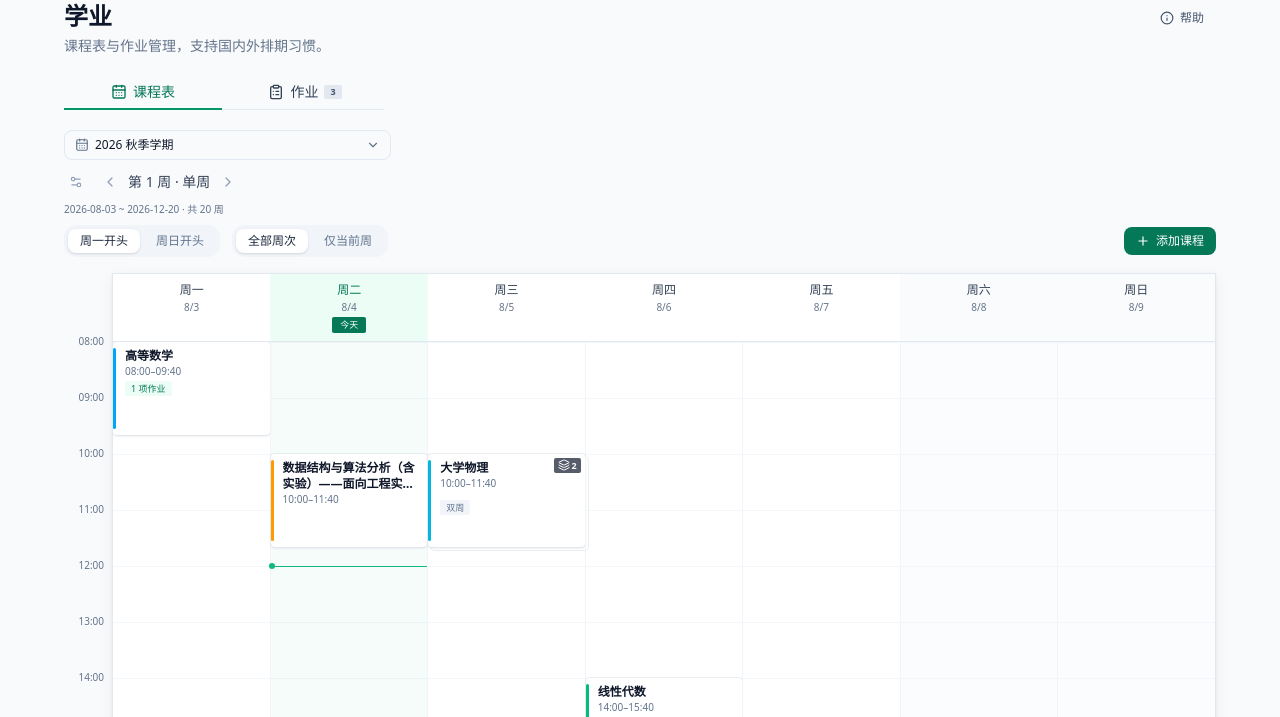
Scenario: StudyPage › 作业页签显示待办数量并在完成后更新
expect the text "3" is shown: met, box [324,85,342,99]
Click the button "作业 3": (305, 93) [226,76,384,110]
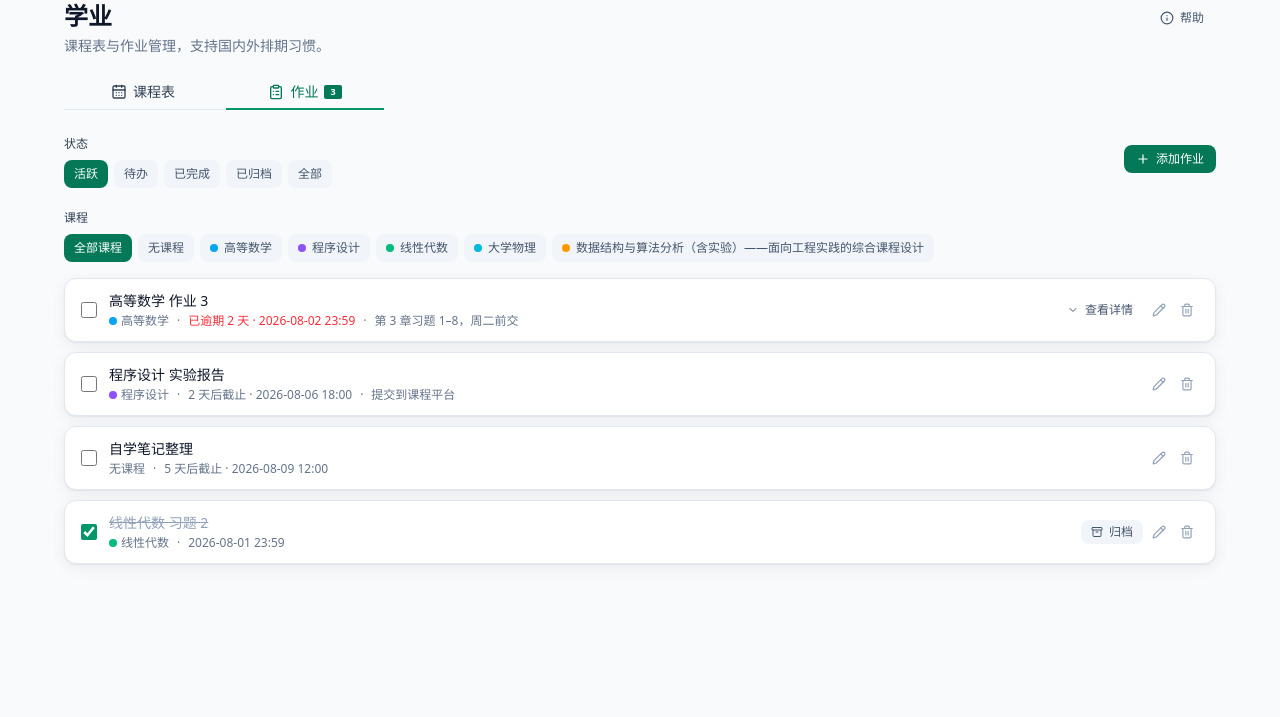
Click the checkbox named "程序设计 实验报告": (89, 384) [81,376,97,392]
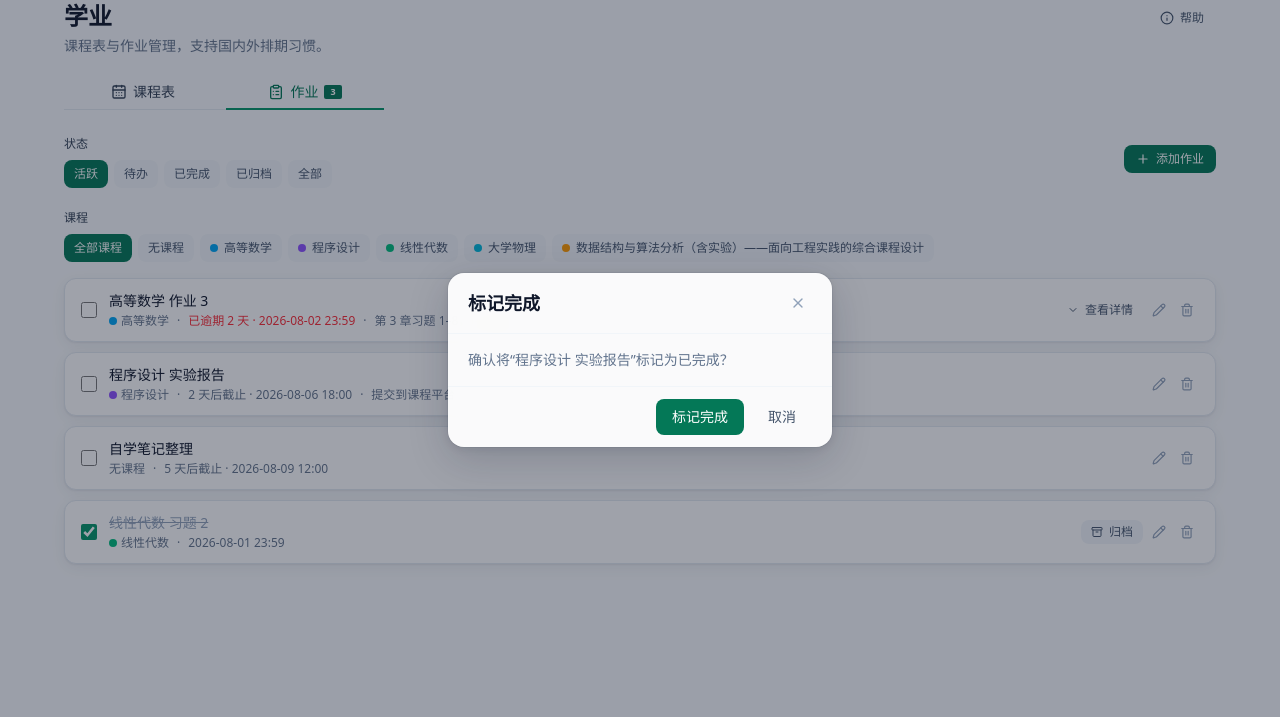
Click the button "标记完成": (700, 417) [656,399,744,435]
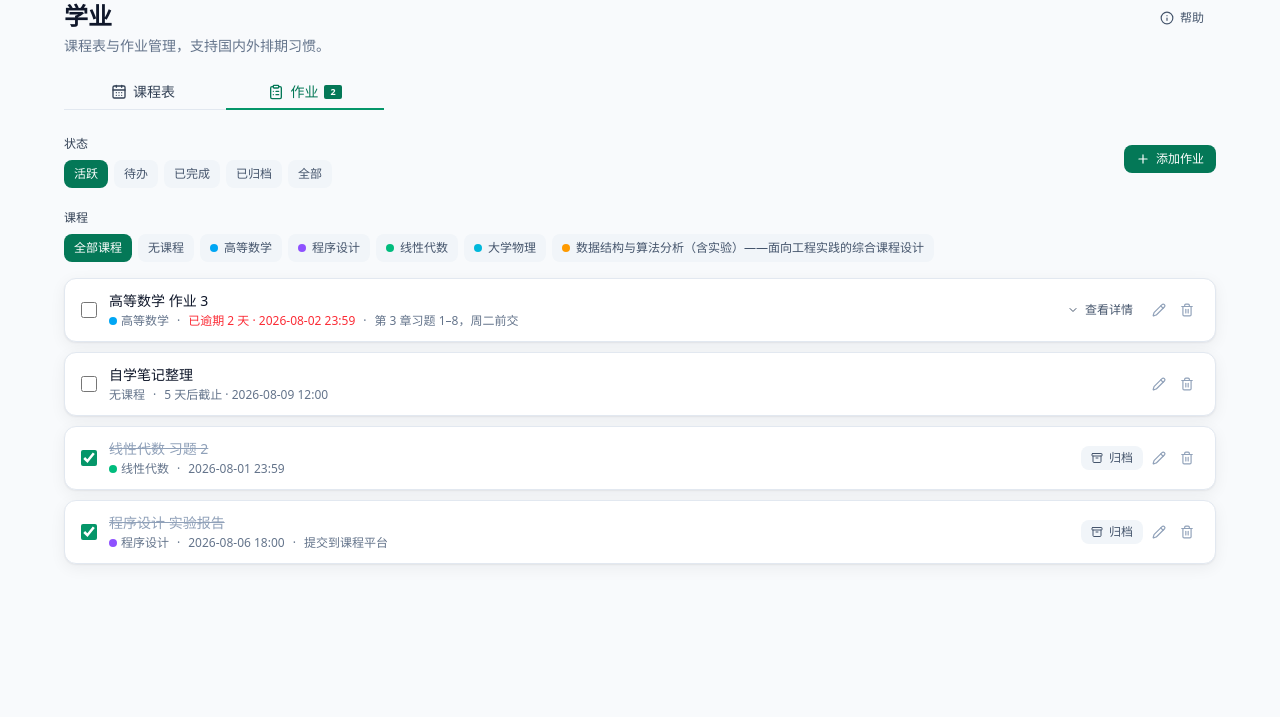
expect the text "2" is shown: met, box [324,85,342,99]
